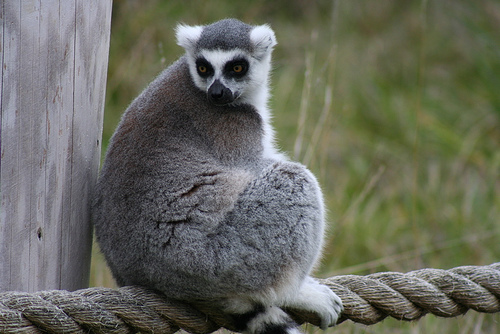cat: (93, 17, 343, 333)
